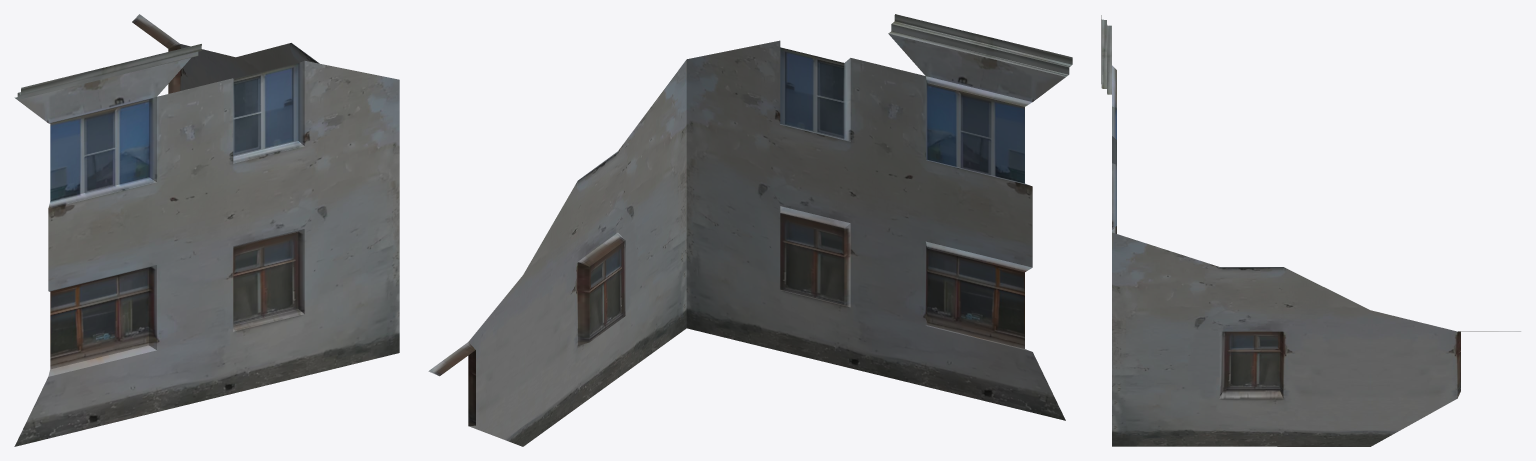
File: House_03_03.fbx
3 renders of one model, left to right at view 1: azimuth 30°, elevation 25°; view 2: azimuth 150°, elevation 25°; view 3: azimuth 270°, elevation 25°, orthographic. The views are drawn at different scales.
Parts seen in each view (by area): view 1: Дом2.003; view 2: Дом2.003; view 3: Дом2.003.
Boxes of the visible parts, bbox=[...] form: Дом2.003: bbox=[14, 14, 399, 446]; Дом2.003: bbox=[428, 14, 1072, 446]; Дом2.003: bbox=[1101, 15, 1520, 446].
Size of the model in its own units: 13.69 by 12.33 by 16.45.
1 material, 1 textured.
